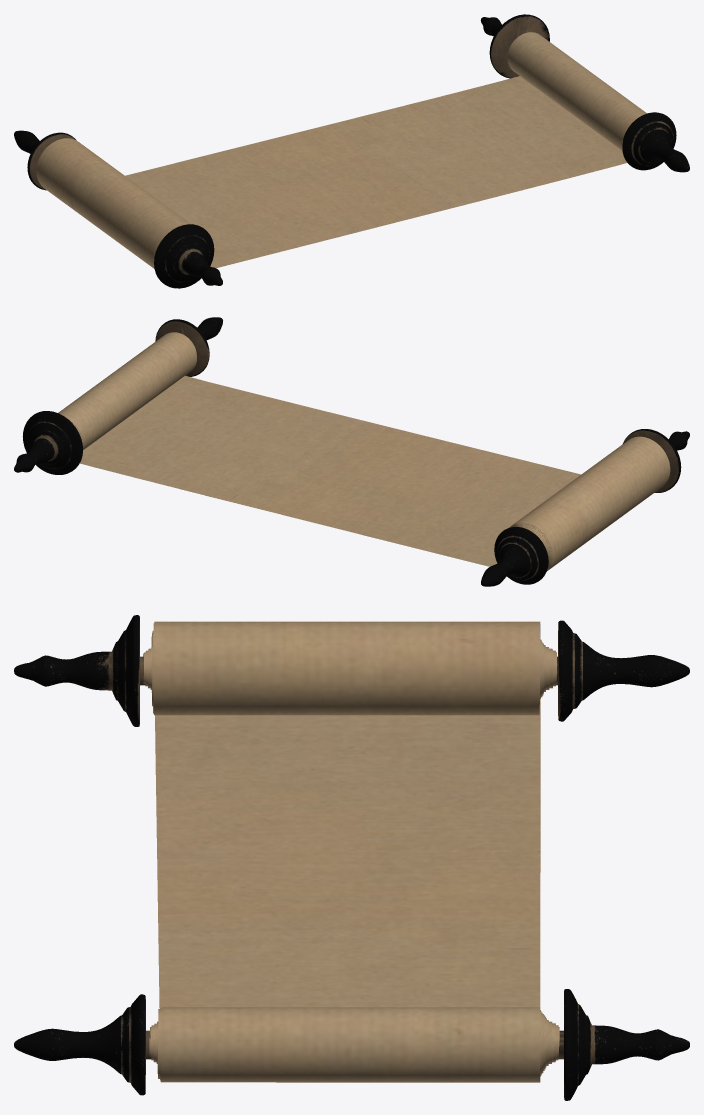
File: scroll-04437368c32b.glb
The picture shows the model from 3 angles, top to bottom: view 1: azimuth 30°, elevation 25°; view 2: azimuth 150°, elevation 25°; view 3: azimuth 270°, elevation 25°; orthographic projection. The views are drawn at different scales.
Parts seen in each view (by area): view 1: aswwr2_scroll_body_scroll_Mat_0, aswwr2_rod_2_rod_Mat_0; view 2: aswwr2_scroll_body_scroll_Mat_0, aswwr2_rod_2_rod_Mat_0; view 3: aswwr2_scroll_body_scroll_Mat_0, aswwr2_rod_2_rod_Mat_0.
Boxes of the visible parts, x1,y1,x2,y2 form: aswwr2_scroll_body_scroll_Mat_0: (36,32,646,268); aswwr2_rod_2_rod_Mat_0: (14,14,689,288); aswwr2_scroll_body_scroll_Mat_0: (58,332,670,570); aswwr2_rod_2_rod_Mat_0: (14,317,689,586); aswwr2_scroll_body_scroll_Mat_0: (143,621,559,1082); aswwr2_rod_2_rod_Mat_0: (14,615,689,1100).
Size of the model in its own units: 0.4233 by 0.0478 by 0.287.
Materials: 2 (2 with a texture image).
